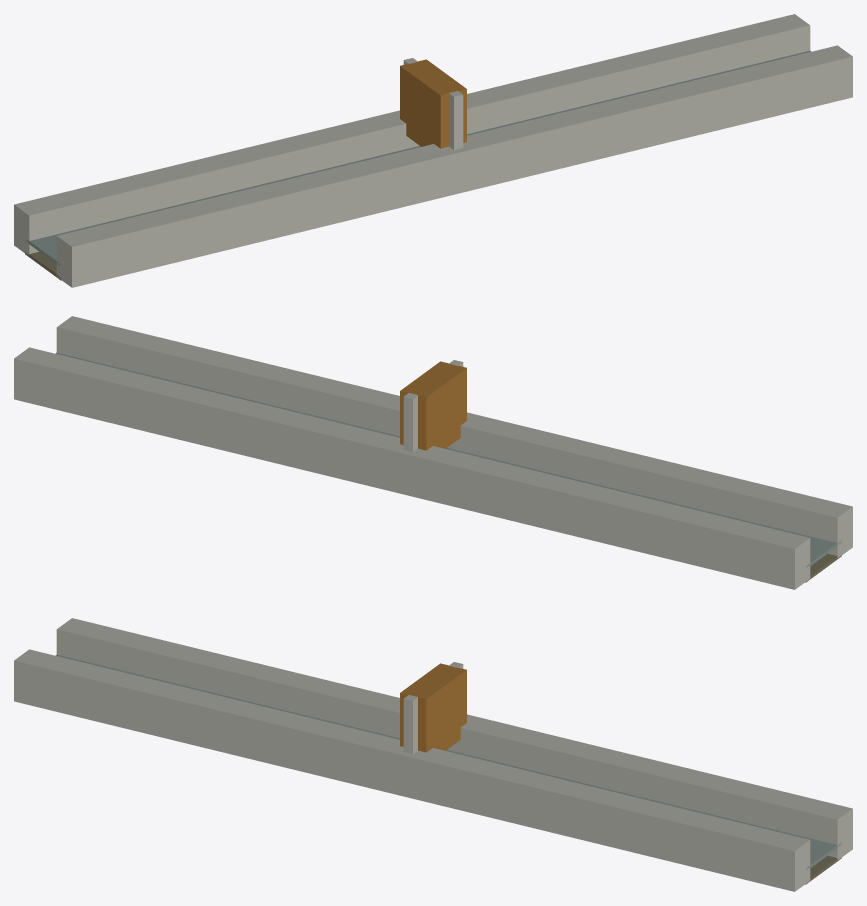
File: SM_Acequia_v2_Compuerta_LOD1.fbx
3 views of the same model, one above another, from view 1: azimuth 30°, elevation 25°; view 2: azimuth 150°, elevation 25°; view 3: azimuth 330°, elevation 25° (orthographic).
Visible parts, largest first — view 1: SM_huerta_nules_v17_LOD1; view 2: SM_huerta_nules_v17_LOD1; view 3: SM_huerta_nules_v17_LOD1.
Boxes of the visible parts, bbox=[...] form: SM_huerta_nules_v17_LOD1: bbox=[14, 14, 852, 287]; SM_huerta_nules_v17_LOD1: bbox=[14, 316, 852, 589]; SM_huerta_nules_v17_LOD1: bbox=[14, 618, 852, 891].
Size of the model in its own units: 10 by 1.16 by 1.29.
